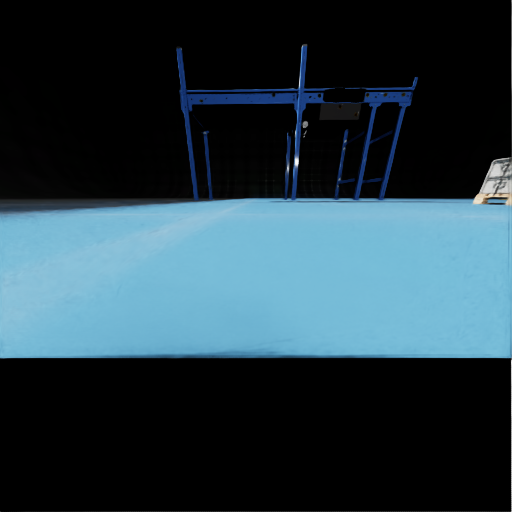transportation_area: (493, 157, 511, 196)
